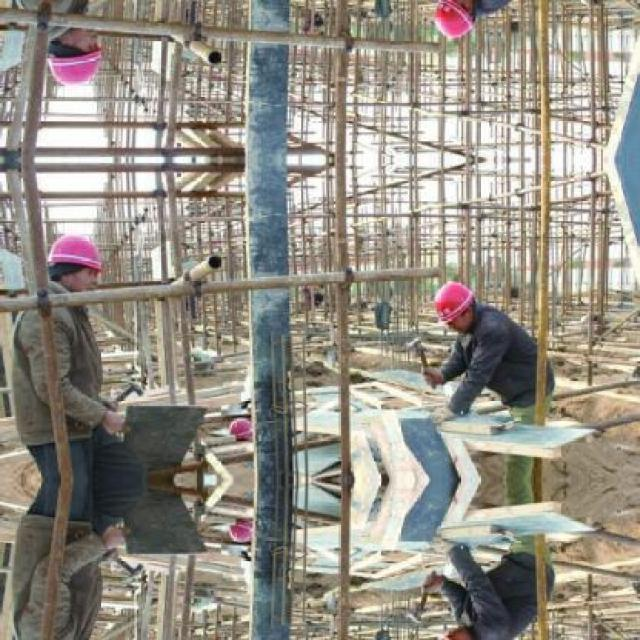helmet: (37, 229, 106, 283), (422, 276, 482, 330)
